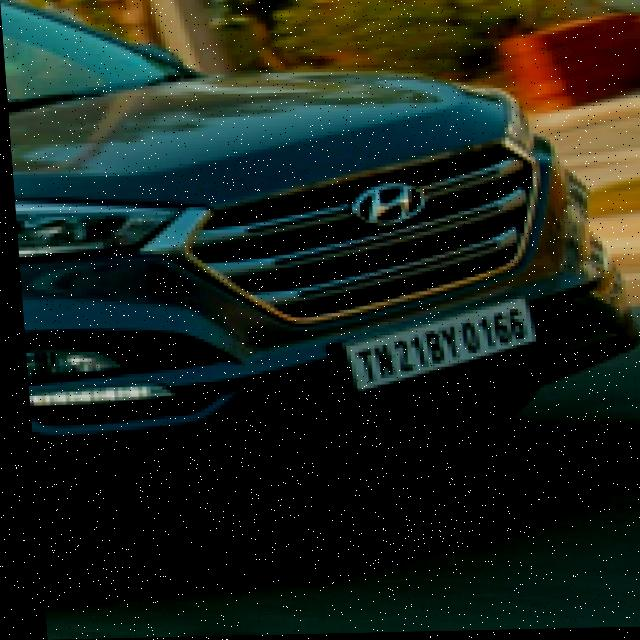plate: (325, 295, 538, 394)
